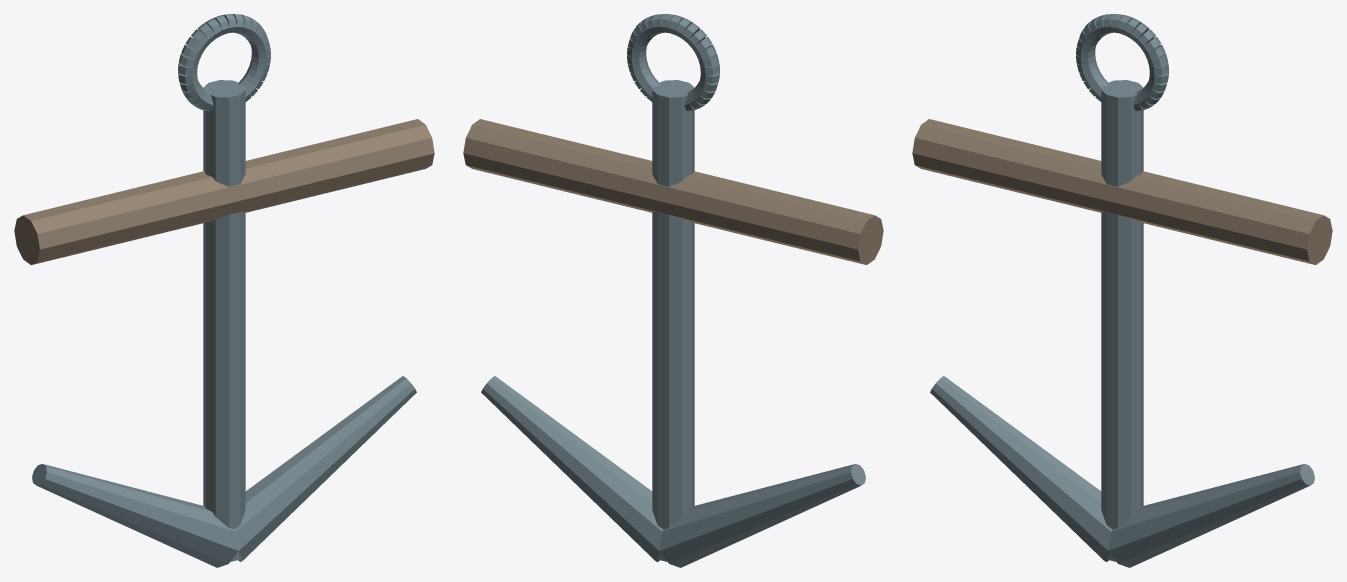
The model's file is a5_detail.glb.
The picture shows the model from 3 angles, left to right: view 1: azimuth 30°, elevation 25°; view 2: azimuth 150°, elevation 25°; view 3: azimuth 330°, elevation 25°; orthographic projection.
Parts seen in each view (by area): view 1: Body.059; view 2: Body.059; view 3: Body.059.
Part boxes in pixels (x1=…): Body.059: x1=14, y1=14, x2=434, y2=567; Body.059: x1=463, y1=14, x2=883, y2=567; Body.059: x1=912, y1=14, x2=1332, y2=567.
Size of the model in its own units: 1.6 by 2.12 by 0.2.
